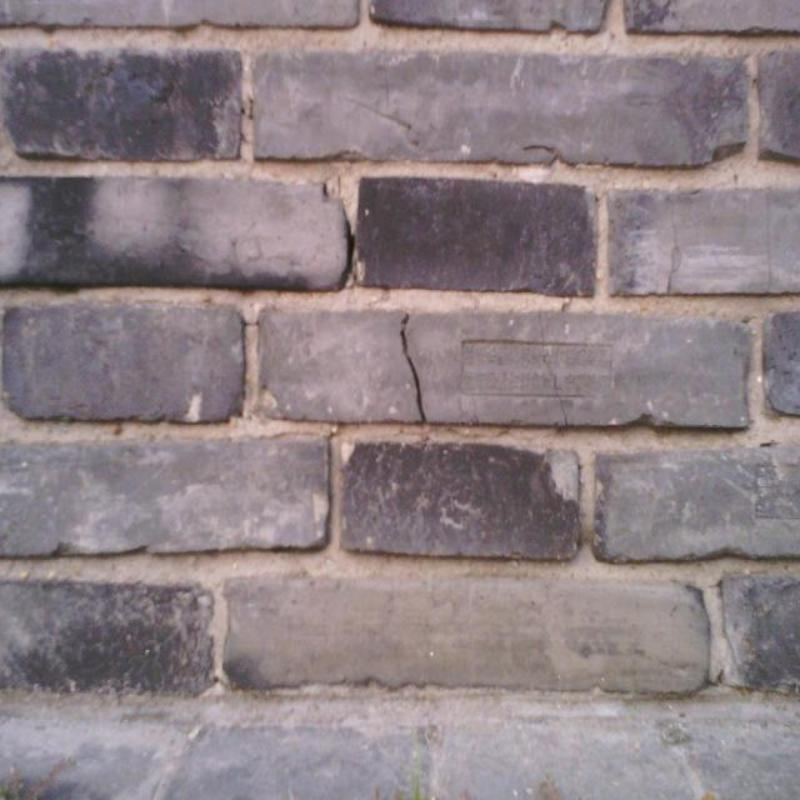pothole: (536, 309, 569, 426), (400, 312, 427, 423), (666, 212, 683, 298), (762, 192, 772, 295), (522, 145, 563, 155), (349, 235, 354, 269), (242, 320, 260, 329)
